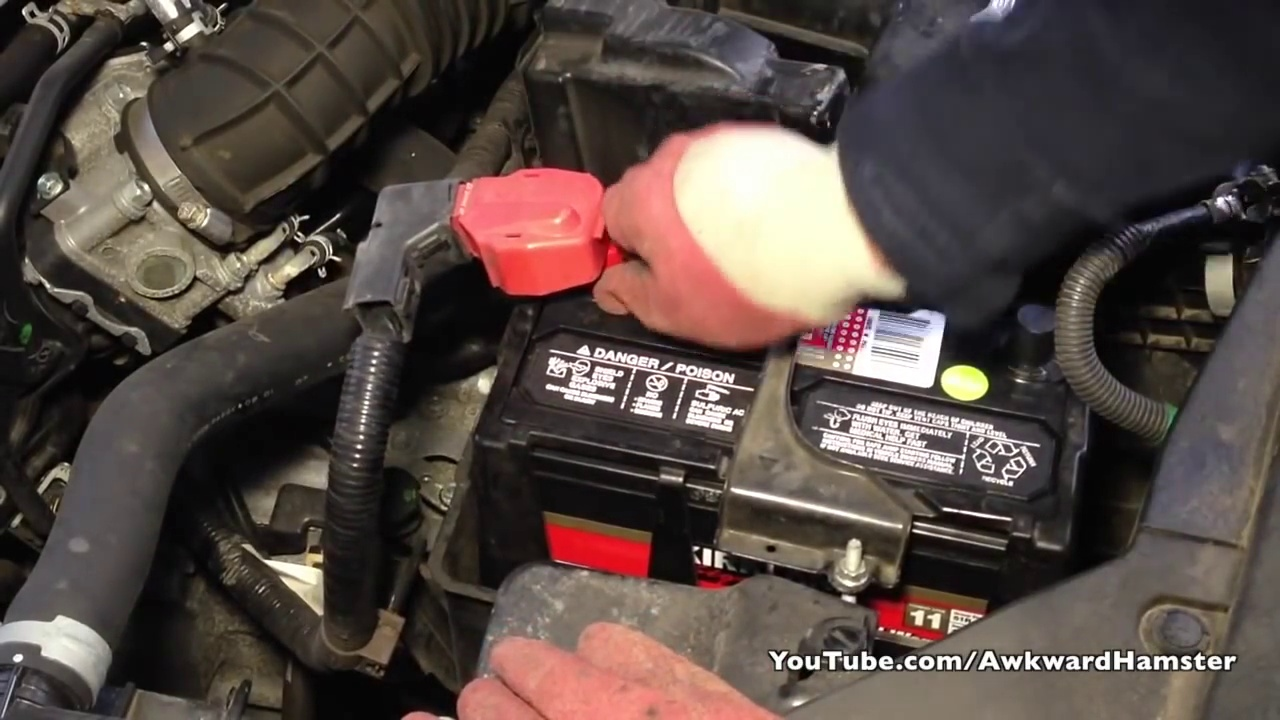battery: (465, 175, 1080, 559)
pos_connected: (410, 173, 622, 305)
pos_touched: (435, 144, 721, 363)
